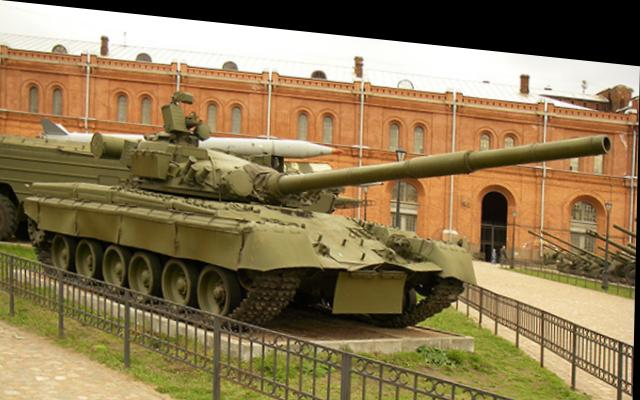tank: (37, 133, 458, 318)
